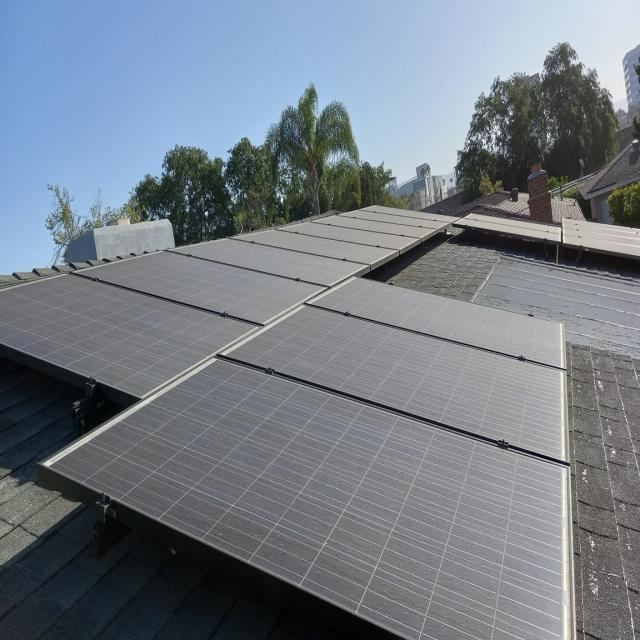dust-solar-panel: (0, 205, 573, 640)
